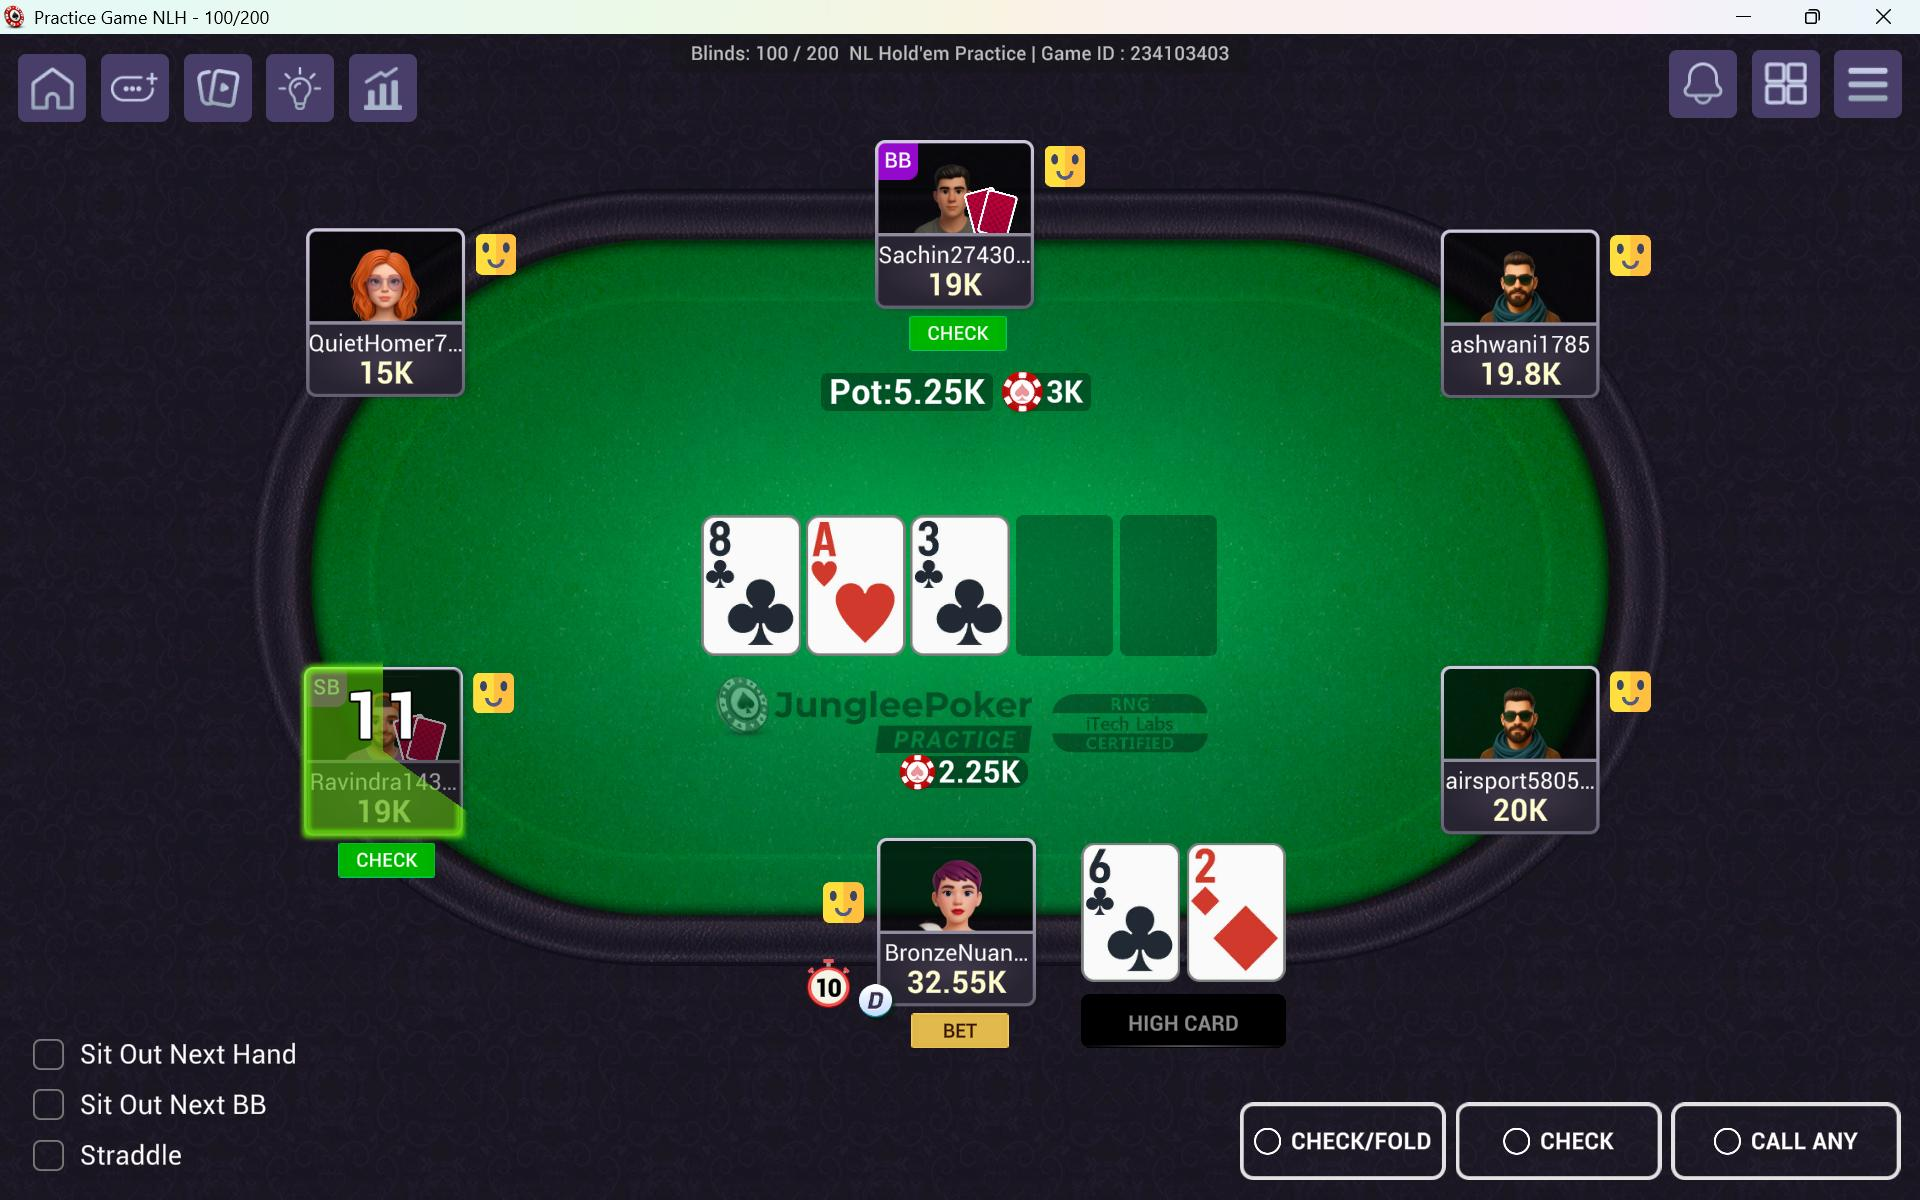card1_rank: (1085, 838, 1135, 890)
card1_suite_club: (1103, 889, 1175, 977)
card2_rank: (1187, 841, 1247, 888)
card2_suite_diamond: (1218, 889, 1283, 983)
flop1_rank: (702, 513, 764, 567)
flop1_suite_club: (724, 574, 796, 653)
flop2_rank: (807, 518, 889, 564)
flop2_suite_heart: (832, 563, 898, 650)
flop3_rank: (910, 518, 999, 571)
flop3_suite_club: (933, 568, 1012, 650)
my_bet: (894, 753, 1034, 795)
my_stack: (878, 958, 1028, 1008)
position_BB: (875, 141, 923, 184)
position_SB: (310, 666, 355, 712)
total_pot: (825, 371, 1092, 413)
villian1_name: (310, 759, 460, 794)
villian1_stack: (315, 798, 462, 834)
villian2_name: (305, 324, 464, 362)
villian2_stack: (310, 354, 459, 401)
villian3_name: (875, 228, 1039, 270)
villian3_stack: (881, 263, 1028, 299)
villian4_name: (1444, 324, 1595, 364)
villian4_stack: (1456, 366, 1594, 390)
villian5_name: (1444, 753, 1595, 799)
villian5_stack: (1450, 789, 1594, 827)
